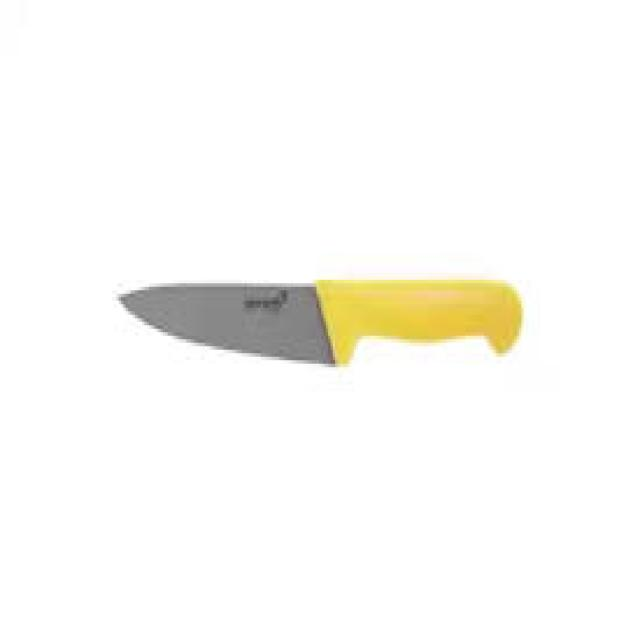Knife: (116, 276, 522, 367)
